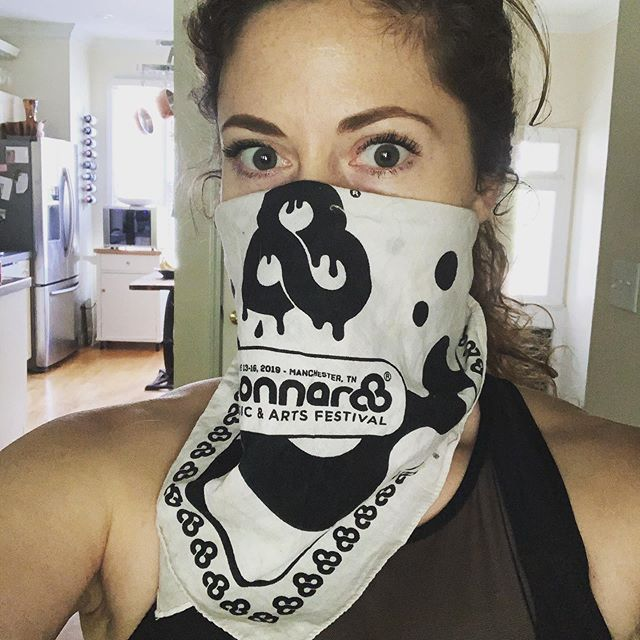homemade: (203, 200, 478, 622)
